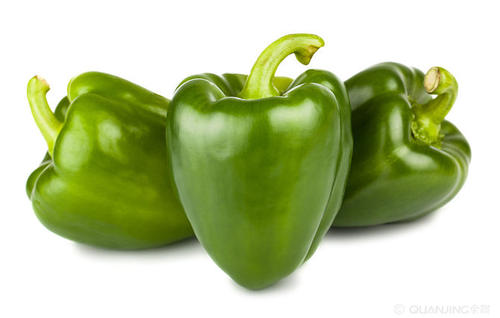fruit_pepper: (161, 31, 355, 296), (18, 67, 225, 253), (316, 59, 475, 232)
